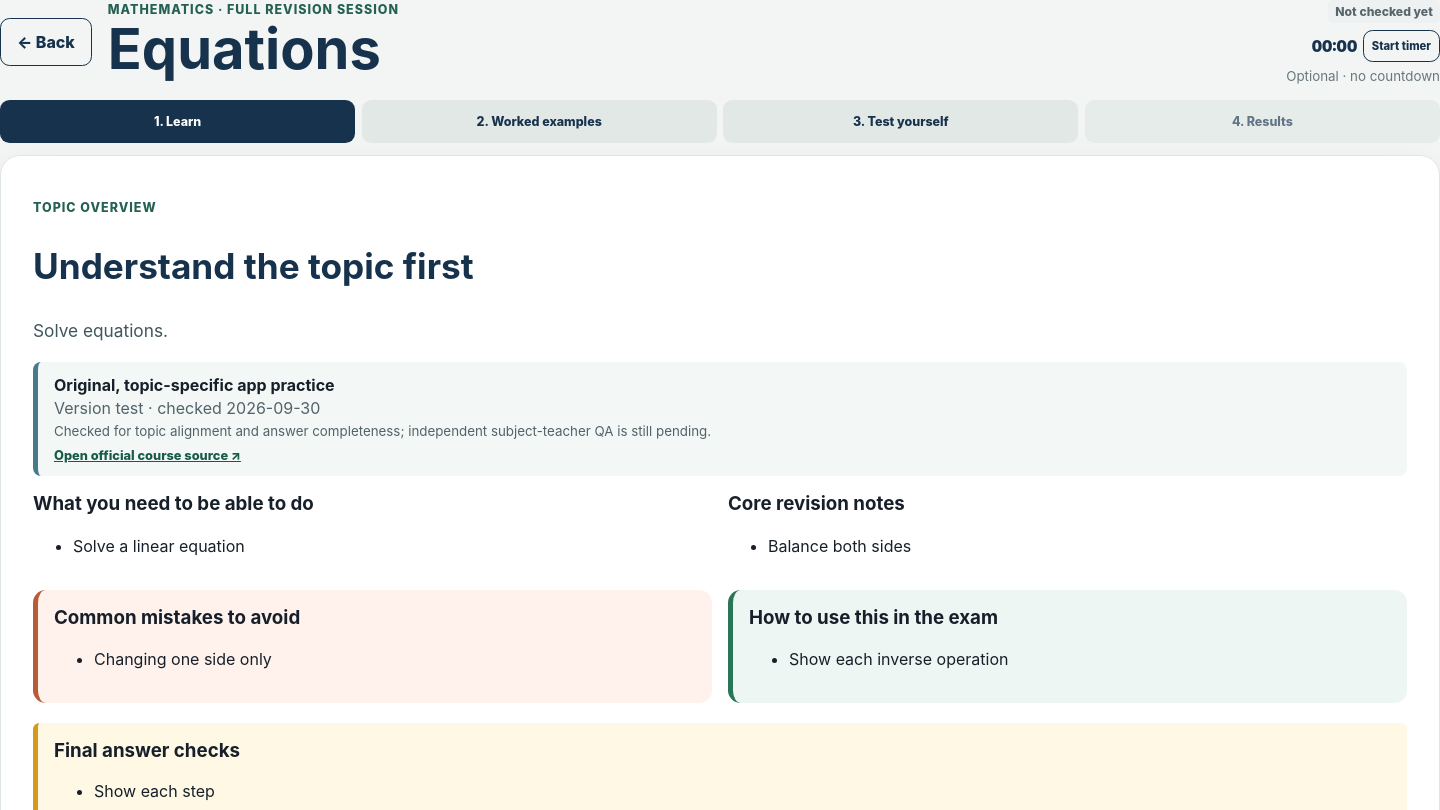
Test: revision learning content › shows the phone QR option only inside written-answer practice
Expected: the button "Continue on phone" is not shown
Click the button "3. Test yourself" at (901, 121), box [723,100,1078,143]
(page scrolled)
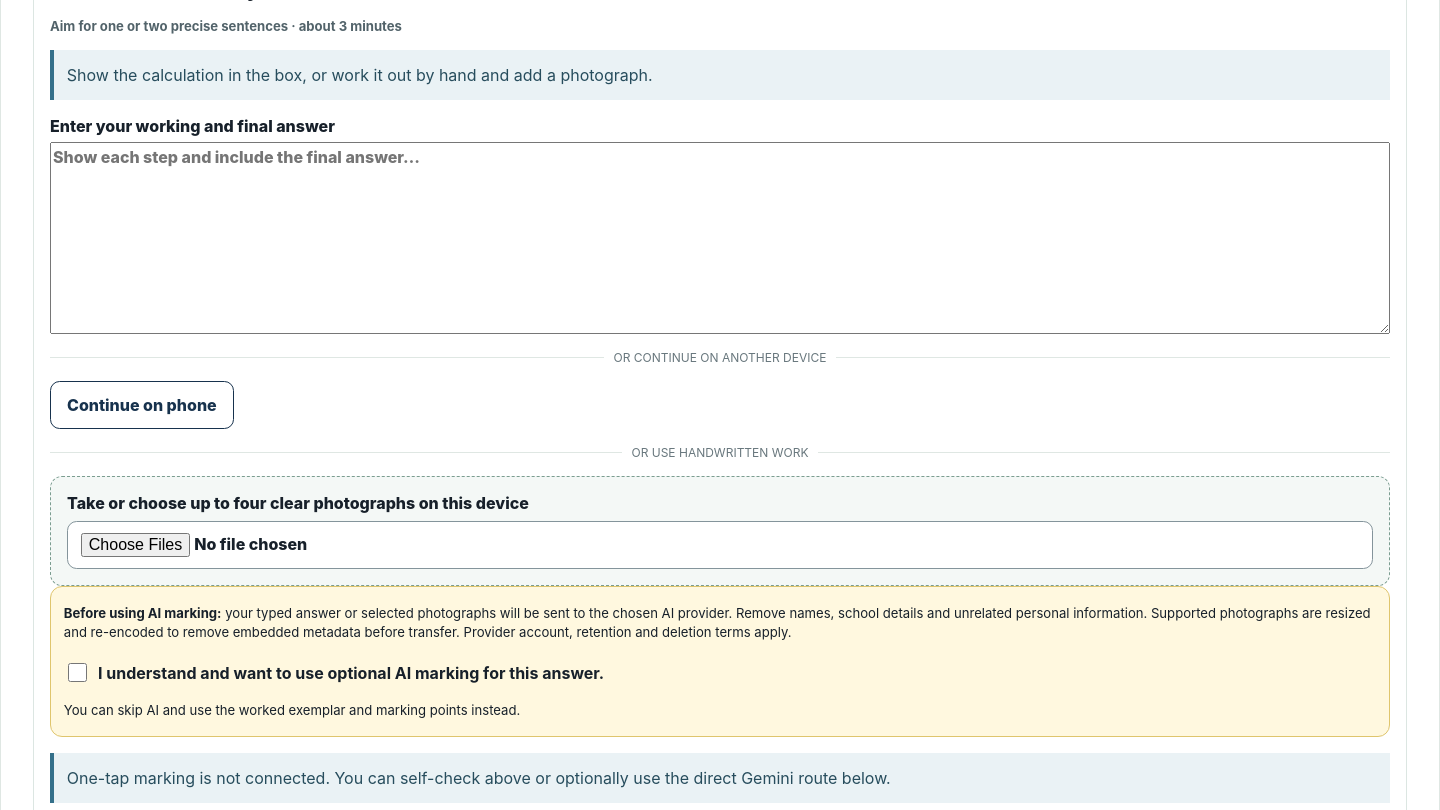
Now the button "Continue on phone" is shown, box [50,381,234,429]
